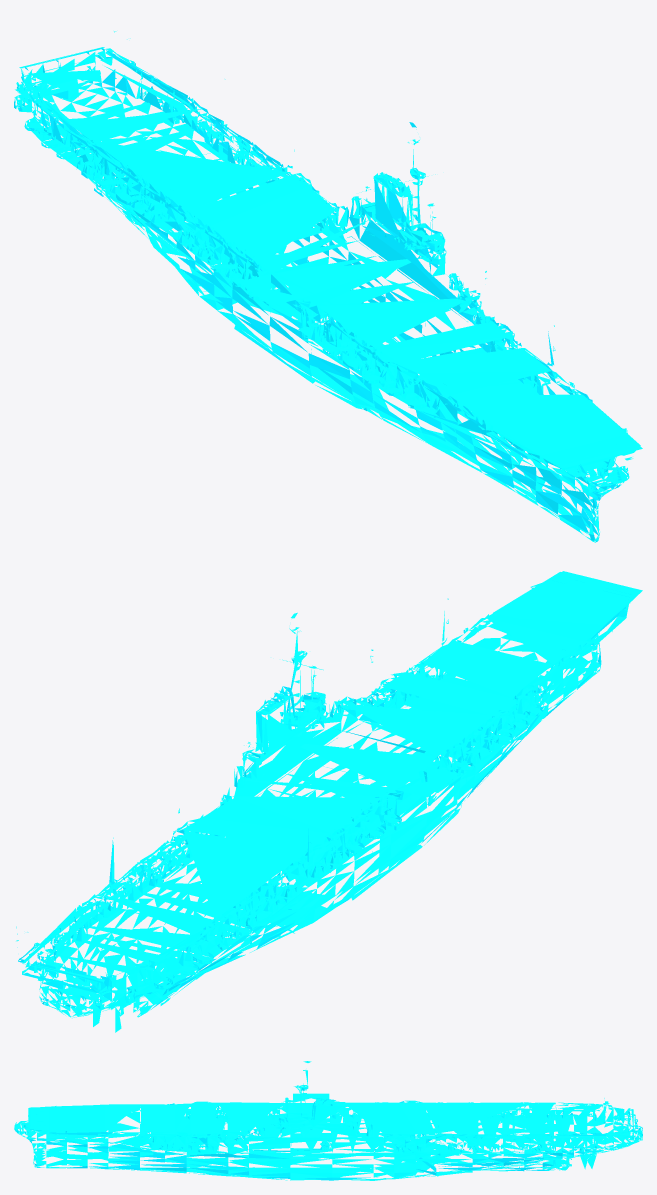
Rendered from Midway.glb.
The picture shows the model from 3 angles, top to bottom: view 1: azimuth 30°, elevation 25°; view 2: azimuth 150°, elevation 25°; view 3: azimuth 270°, elevation 25°; orthographic projection. The views are drawn at different scales.
Bounding box in the file's own units: 3.66 × 4.28 × 19.66.
